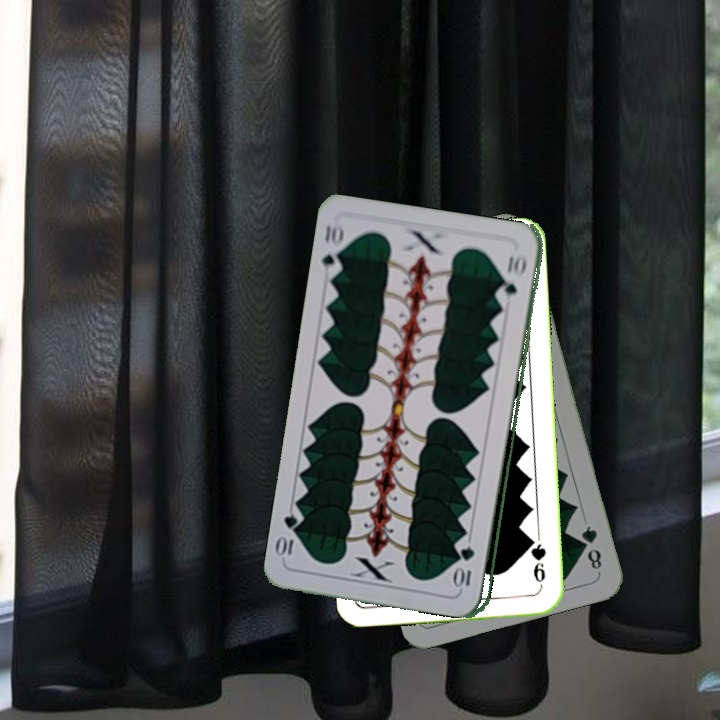G10: (318, 218, 347, 279), (455, 542, 477, 590)
G8: (577, 521, 605, 575)
G9: (526, 533, 549, 591)
